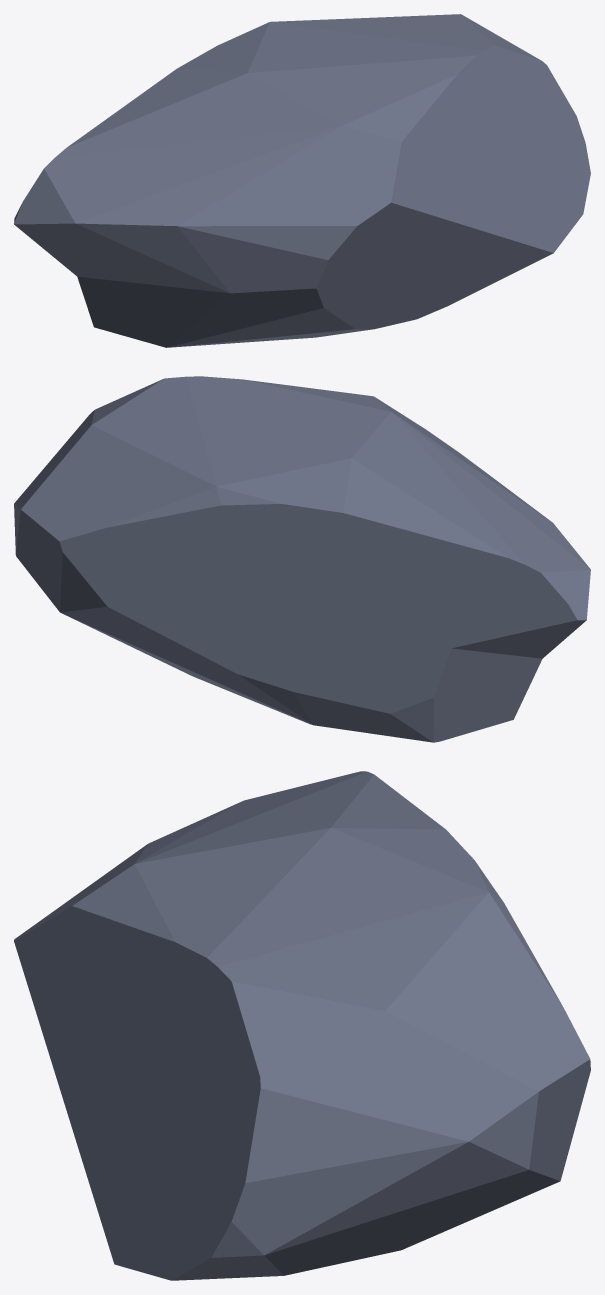
Rendered from rock_01.fbx.
3 views of the same model, one above another, from view 1: azimuth 30°, elevation 25°; view 2: azimuth 150°, elevation 25°; view 3: azimuth 270°, elevation 25° (orthographic). The views are drawn at different scales.
Visible parts, largest first — view 1: rock.032; view 2: rock.032; view 3: rock.032.
Boxes of the visible parts, x1,y1,x2,y2 form: rock.032: [14, 14, 590, 347]; rock.032: [14, 376, 590, 742]; rock.032: [14, 771, 590, 1280].
Bounding box in the file's own units: 2113 × 913 × 1342.
